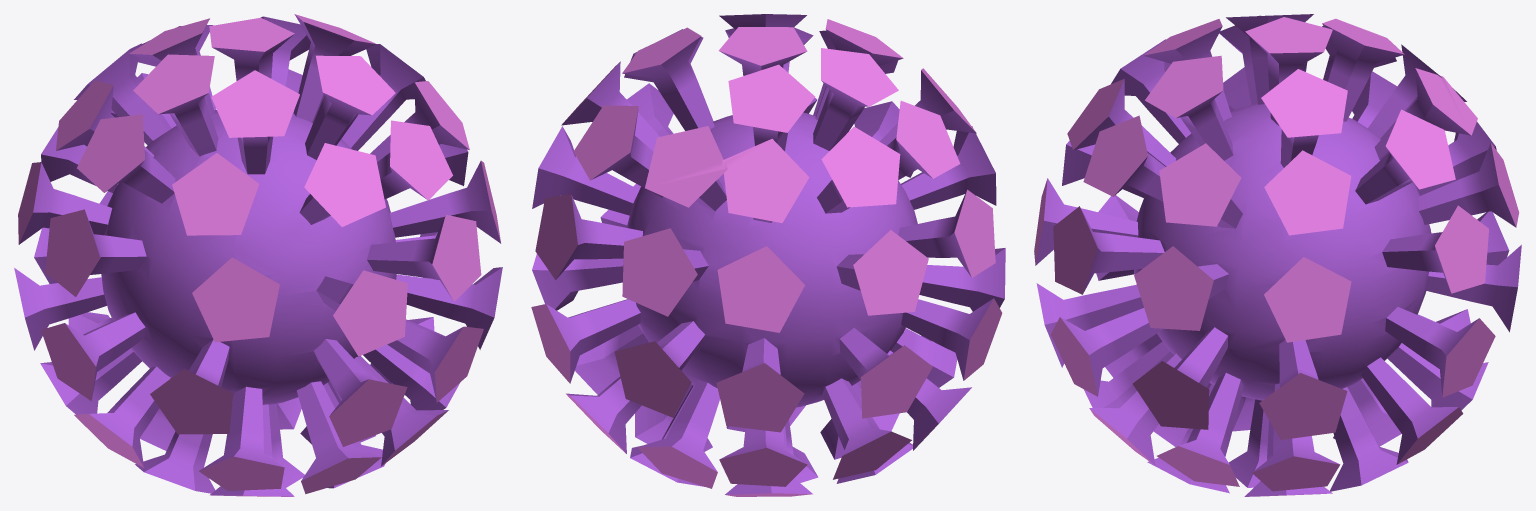
File: PURPLEBACTERIA.fbx
3 views of the same model, side by side, from view 1: azimuth 30°, elevation 25°; view 2: azimuth 150°, elevation 25°; view 3: azimuth 270°, elevation 25° (orthographic).
Visible parts, largest first — view 1: polySurface102; view 2: polySurface102; view 3: polySurface102.
Boxes of the visible parts, x1,y1,x2,y2 form: polySurface102: [14, 14, 502, 496]; polySurface102: [531, 14, 1005, 496]; polySurface102: [1034, 14, 1521, 496].
Bounding box in the file's own units: 9.71 × 9.65 × 9.74.
